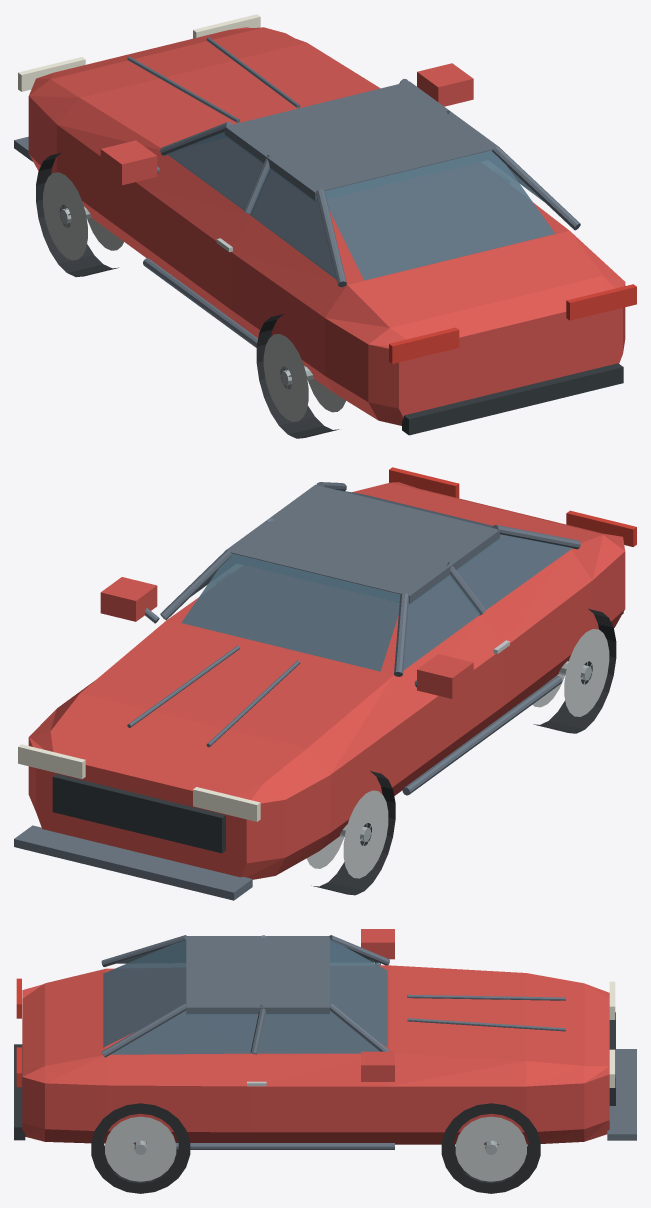
The model's file is orion_rs.glb.
3 views of the same model, one above another, from view 1: azimuth 30°, elevation 25°; view 2: azimuth 150°, elevation 25°; view 3: azimuth 270°, elevation 25° (orthographic). The views are drawn at different scales.
Parts seen in each view (by area): view 1: Body_Shell, Rear_Windshield, Roof, Diffuser, Rear_Quarter_Glass_-1, Door_Glass_-1, Rim_RL, Rim_FL, Mirror_Housing_-1, Tire_RL, Tire_FL, Mirror_Housing_1 (+9 smaller); view 2: Body_Shell, Roof, Windshield, Grille, Splitter, Rear_Quarter_Glass_-1, Door_Glass_-1, Rim_FL, Rim_RL, Tire_RL, Mirror_Housing_-1, Mirror_Housing_1 (+10 smaller); view 3: Body_Shell, Roof, Rear_Windshield, Rear_Quarter_Glass_1, Windshield, Door_Glass_1, Rim_RR, Rim_FR, Tire_FR, Tire_RR, Splitter, Sill_1 (+10 smaller).
Boxes of the visible parts, left/top/right/bottom form: Body_Shell: left=28, top=27, right=625, bottom=425; Rear_Windshield: left=324, top=150, right=555, bottom=280; Roof: left=224, top=81, right=499, bottom=200; Diffuser: left=402, top=363, right=623, bottom=435; Rear_Quarter_Glass_-1: left=249, top=168, right=336, bottom=279; Door_Glass_-1: left=167, top=132, right=263, bottom=210; Rim_RL: left=263, top=334, right=345, bottom=421; Rim_FL: left=43, top=172, right=123, bottom=260; Mirror_Housing_-1: left=100, top=140, right=157, bottom=185; Tire_RL: left=256, top=314, right=339, bottom=438; Tire_FL: left=36, top=152, right=118, bottom=277; Mirror_Housing_1: left=417, top=63, right=473, bottom=106; Body_Shell: left=28, top=482, right=625, bottom=879; Roof: left=225, top=484, right=499, bottom=603; Windshield: left=181, top=553, right=400, bottom=671; Grille: left=52, top=774, right=225, bottom=853; Splitter: left=14, top=825, right=252, bottom=900; Rear_Quarter_Glass_-1: left=456, top=534, right=572, bottom=609; Door_Glass_-1: left=403, top=575, right=479, bottom=670; Rim_FL: left=306, top=790, right=388, bottom=878; Rim_RL: left=532, top=629, right=609, bottom=716; Tire_RL: left=533, top=608, right=616, bottom=733; Mirror_Housing_-1: left=417, top=654, right=473, bottom=698; Mirror_Housing_1: left=100, top=577, right=157, bottom=621; Body_Shell: left=22, top=965, right=609, bottom=1144; Roof: left=186, top=936, right=329, bottom=1014; Rear_Windshield: left=103, top=939, right=186, bottom=1047; Rear_Quarter_Glass_1: left=111, top=1010, right=258, bottom=1054; Windshield: left=330, top=939, right=387, bottom=1047; Door_Glass_1: left=257, top=1011, right=379, bottom=1053; Rim_RR: left=105, top=1116, right=176, bottom=1181; Rim_FR: left=455, top=1116, right=526, bottom=1181; Tire_FR: left=441, top=1103, right=540, bottom=1193; Tire_RR: left=91, top=1103, right=190, bottom=1193; Splitter: left=607, top=1049, right=636, bottom=1140; Sill_1: left=176, top=1143, right=394, bottom=1149.
Size of the model in its own units: 2.29 by 1.31 by 4.42.
